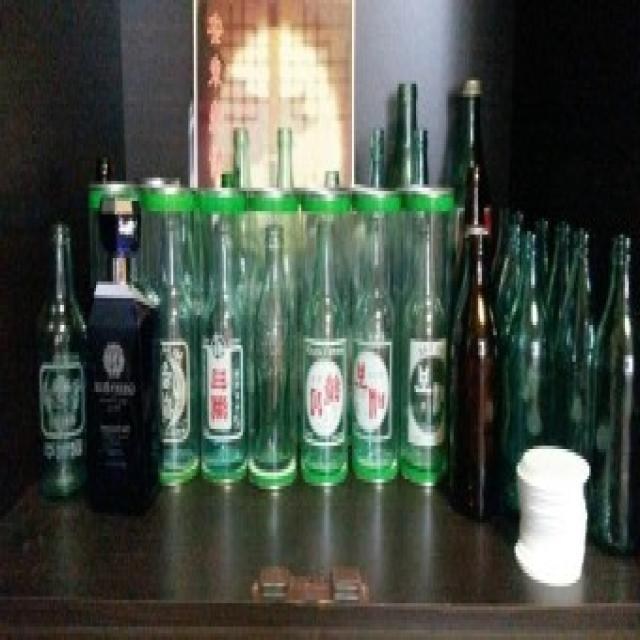glass: (390, 178, 452, 491), (28, 229, 93, 504)
